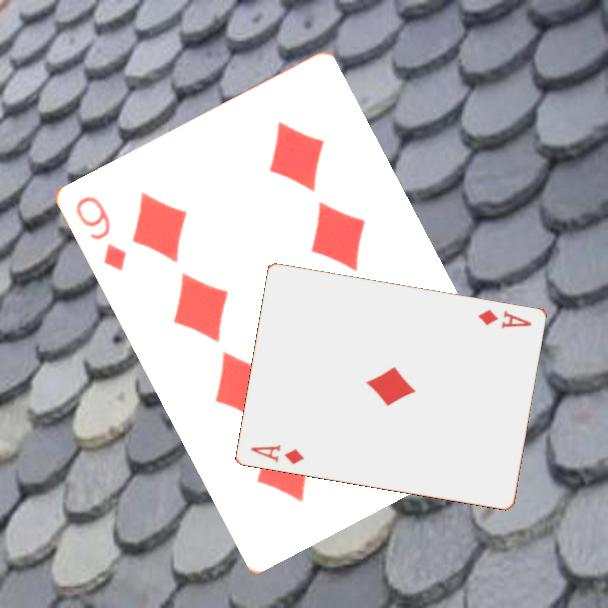d01: (247, 440, 307, 467), (475, 305, 535, 331)
d09: (71, 192, 129, 274)
